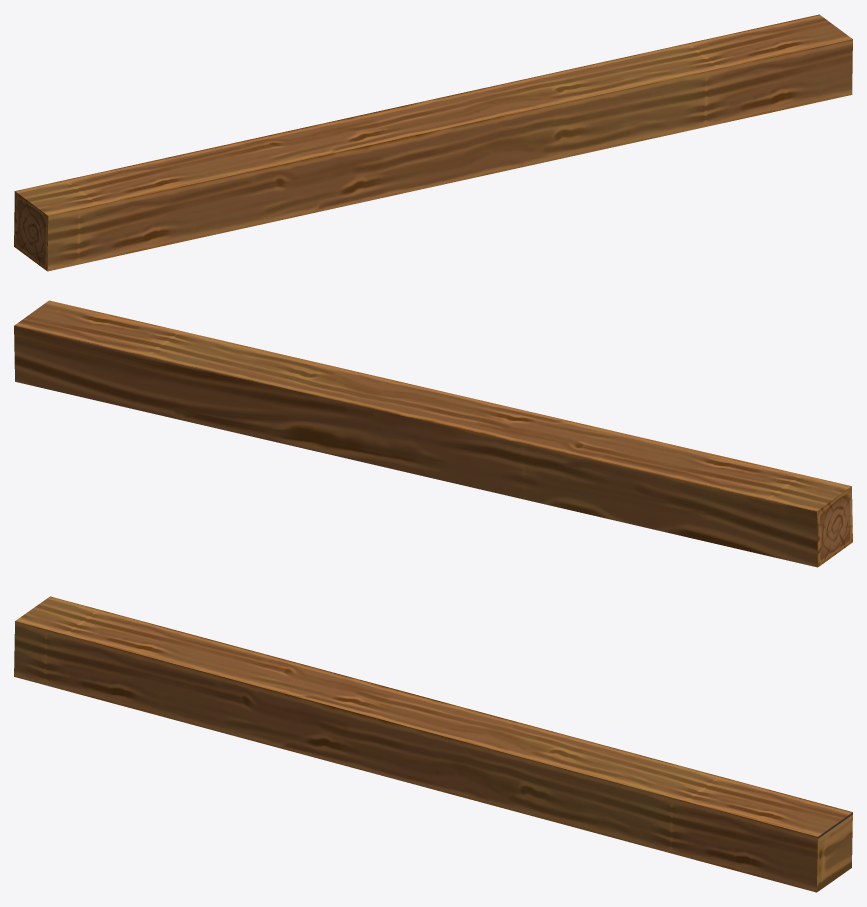
3 views of the same model, one above another, from view 1: azimuth 30°, elevation 25°; view 2: azimuth 150°, elevation 25°; view 3: azimuth 330°, elevation 25° (orthographic).
Visible parts, largest first — view 1: Cube.502; view 2: Cube.502; view 3: Cube.502.
Part boxes in pixels (<box>): Cube.502: <box>14,14,852,271</box>; Cube.502: <box>14,300,852,567</box>; Cube.502: <box>14,596,852,892</box>.
Size of the model in its own units: 732 by 61.53 by 62.
1 material, 1 textured.
